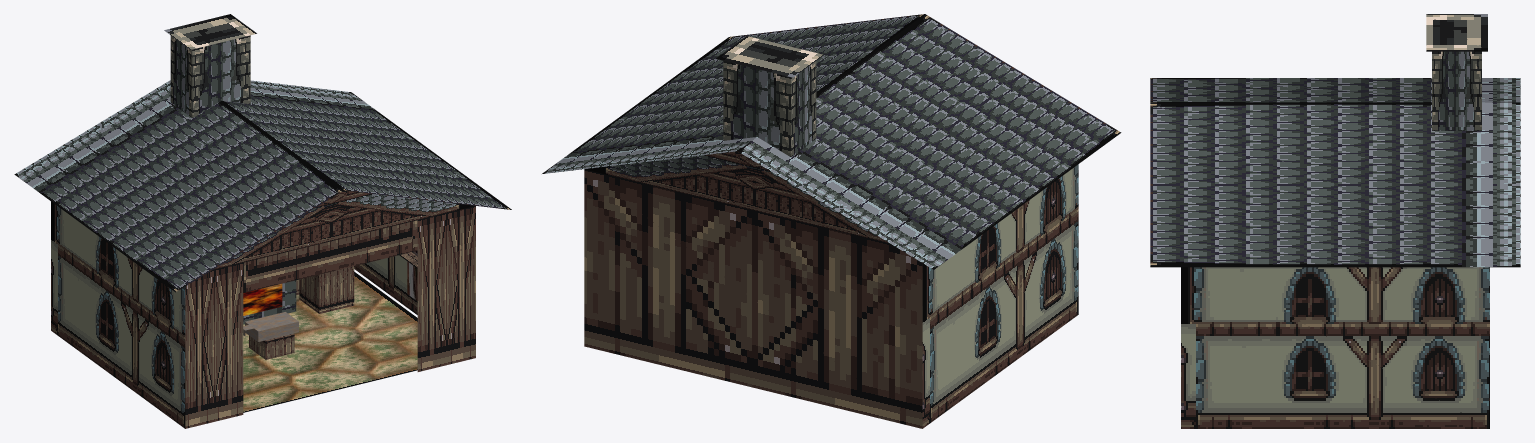
The model's file is blacksmith.glb.
3 renders of one model, left to right at view 1: azimuth 30°, elevation 25°; view 2: azimuth 150°, elevation 25°; view 3: azimuth 270°, elevation 25°, orthographic. The views are drawn at different scales.
Parts seen in each view (by area): view 1: Smith_RoofLeft, Smith_LeftWall, Smith_RoofRight, Smith_Floor, Smith_FrontRight, Smith_FrontLeft, Smith_GableFront, Smith_FrontBeam, Chimney_Front, Chimney_Cap, Smith_RightWall, Chimney_Left (+6 smaller); view 2: Smith_BackWall, Smith_RoofLeft, Smith_LeftWall, Smith_RoofRight, Smith_GableBack, Chimney_Back, Chimney_Cap, Chimney_Left; view 3: Smith_RoofRight, Smith_RightWall, Smith_RoofLeft, Chimney_Right, Chimney_Cap.
Boxes of the visible parts, x1,y1,x2,y2 form: Smith_RoofLeft: (14, 80, 343, 292); Smith_LeftWall: (51, 201, 185, 428); Smith_RoofRight: (222, 80, 511, 209); Smith_Floor: (243, 272, 417, 412); Smith_FrontRight: (417, 206, 475, 371); Smith_FrontLeft: (185, 263, 243, 428); Smith_GableFront: (212, 190, 474, 270); Smith_FrontBeam: (243, 220, 417, 292); Chimney_Front: (192, 35, 250, 117); Chimney_Cap: (164, 14, 256, 49); Smith_RightWall: (354, 205, 475, 314); Chimney_Left: (170, 35, 192, 117); Smith_BackWall: (584, 169, 922, 428); Smith_RoofLeft: (738, 14, 1121, 269); Smith_LeftWall: (922, 164, 1078, 428); Smith_RoofRight: (542, 14, 924, 173); Smith_GableBack: (585, 151, 890, 243); Chimney_Back: (723, 61, 790, 156); Chimney_Cap: (716, 36, 823, 77); Chimney_Left: (791, 61, 816, 156); Smith_RoofRight: (1150, 102, 1520, 267); Smith_RightWall: (1181, 267, 1489, 428); Smith_RoofLeft: (1150, 78, 1520, 102); Chimney_Right: (1432, 51, 1481, 130); Chimney_Cap: (1426, 14, 1487, 51).
Size of what is drawn, in the model's own units: 11.6 by 9 by 9.6.
3 materials, 3 textured.
